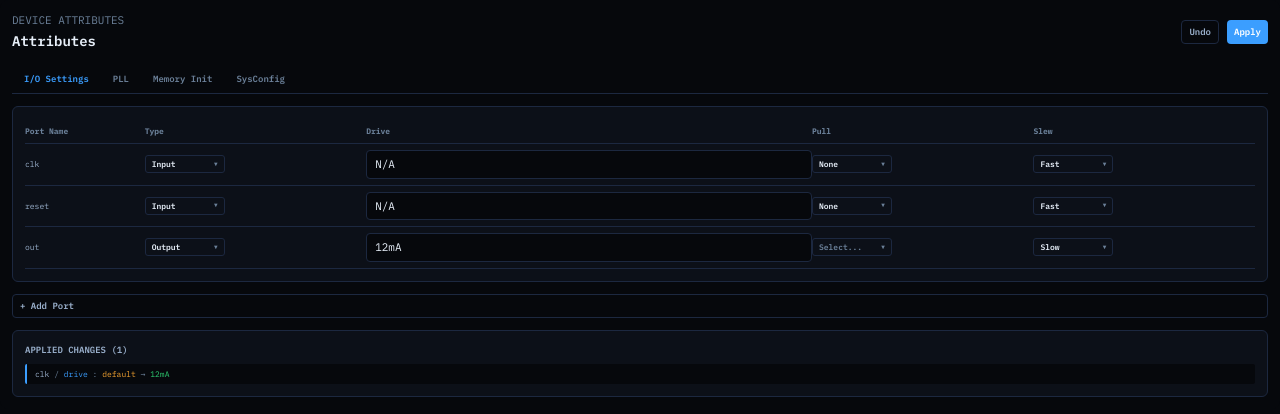
Test: EcoEditor › shows PLL parameters when PLL tab is clicked
Click the button "PLL" at (121, 78), box [101,64,141,93]
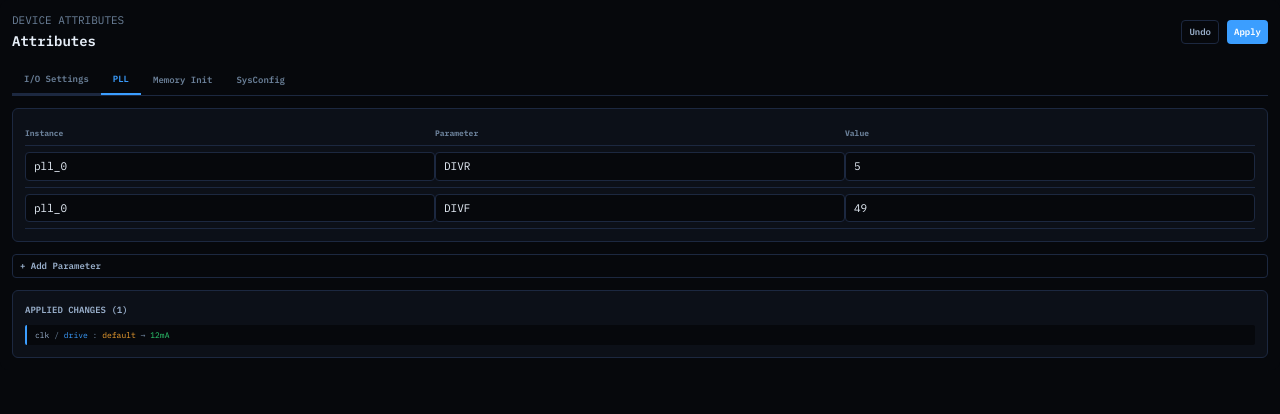
Expected: the column heading "Instance" is shown, [25,121,435,146]
